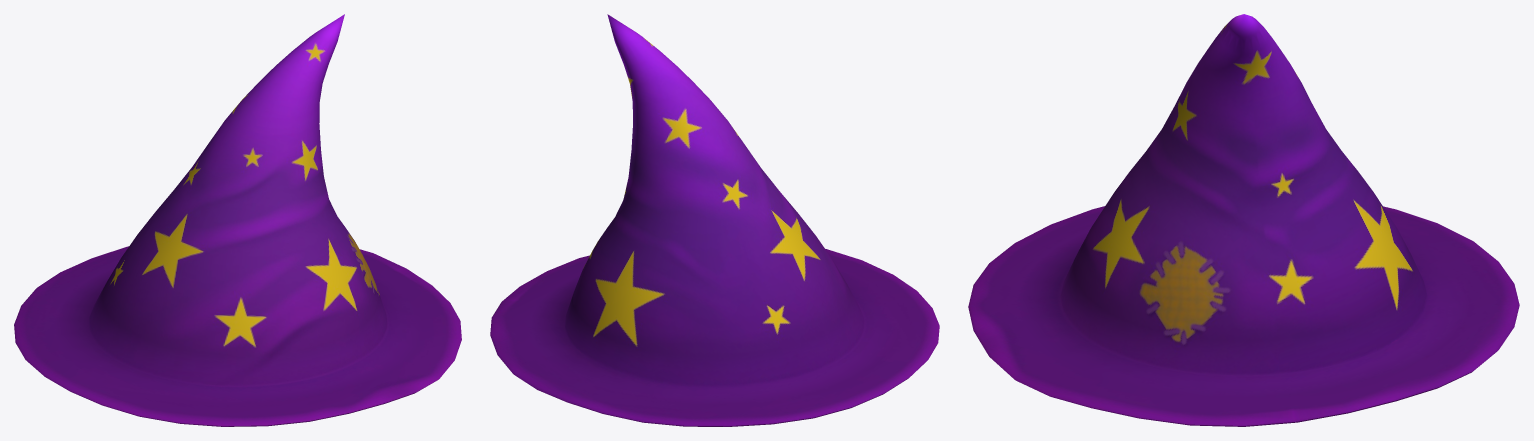
File: magic_hat.glb
3 views of the same model, side by side, from view 1: azimuth 30°, elevation 25°; view 2: azimuth 150°, elevation 25°; view 3: azimuth 270°, elevation 25° (orthographic). The views are drawn at different scales.
Parts seen in each view (by area): view 1: Lowpoly_hat; view 2: Lowpoly_hat; view 3: Lowpoly_hat.
Part boxes in pixels (box(x1,y1,x2,y2)): Lowpoly_hat: box(14, 14, 461, 426); Lowpoly_hat: box(490, 14, 939, 426); Lowpoly_hat: box(968, 14, 1519, 426).
Bounding box in the file's own units: 216 × 158 × 216.
1 material, 1 textured.
